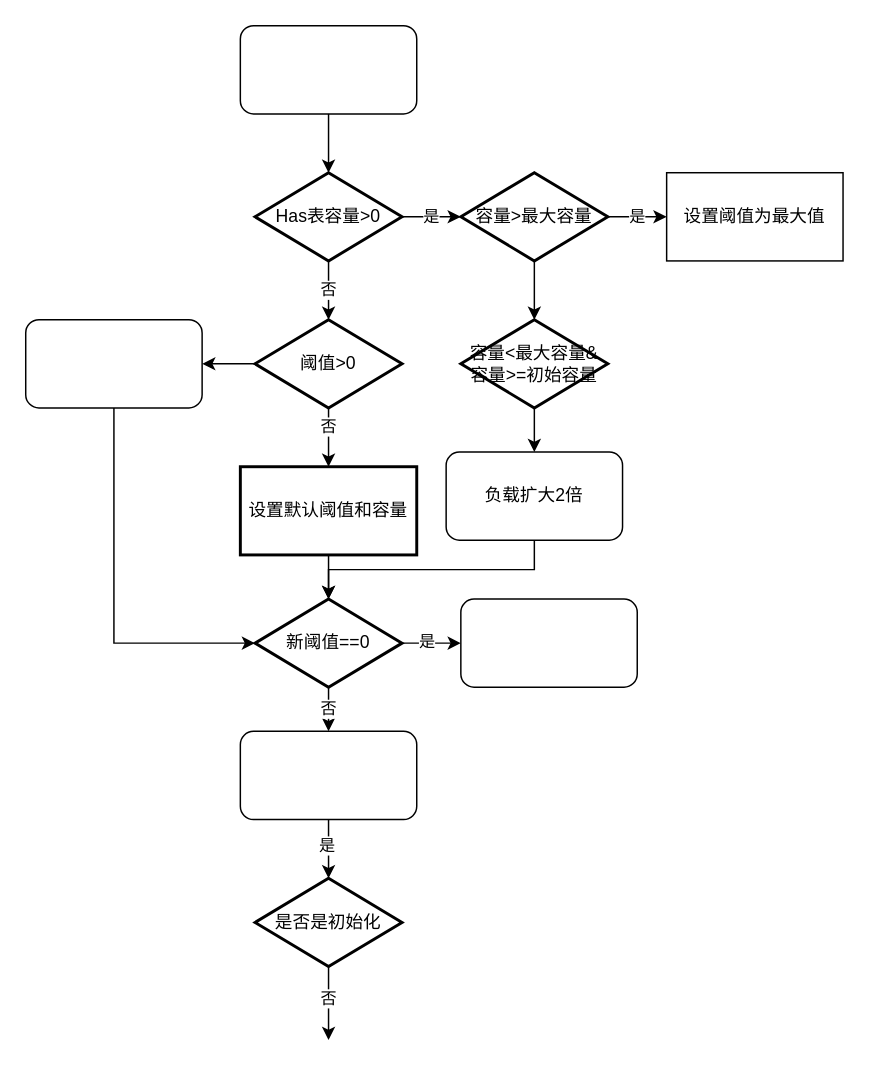
Image size: 869x1078. Some labels were removed from this diagram. The box of each missing label's shape, as (x1, y1, x2, y2) in pixels:
resize: (239, 24, 417, 114)
创建新的Hash表: (239, 730, 417, 820)
新容量=旧阈值: (24, 318, 202, 408)
计算新阈值: (459, 598, 637, 687)
